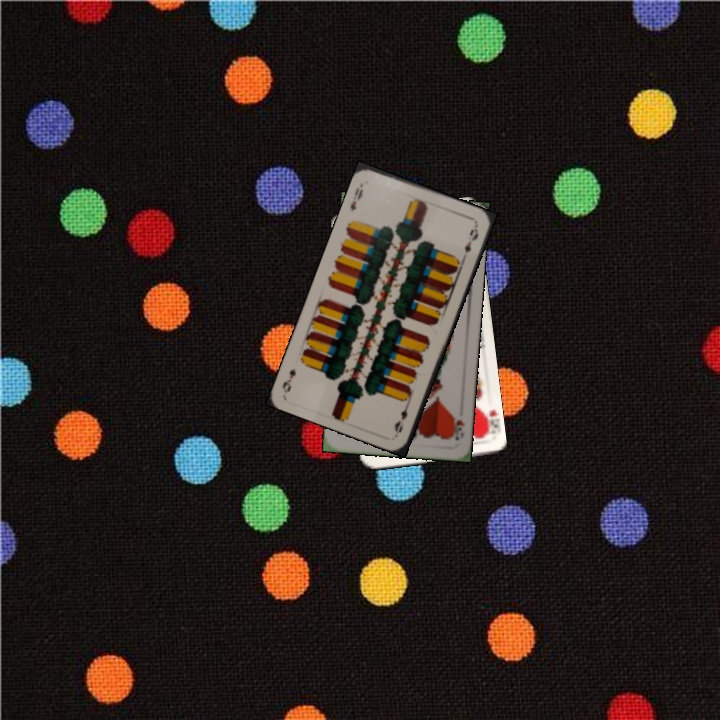E9: (390, 396, 412, 436), (346, 179, 366, 214)
HK: (479, 405, 500, 438)
HO: (448, 410, 467, 443)
